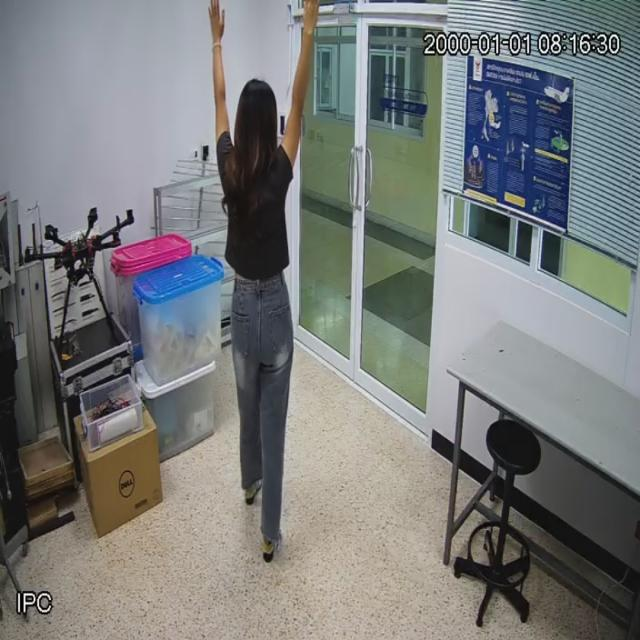normal: (214, 77, 299, 560)
